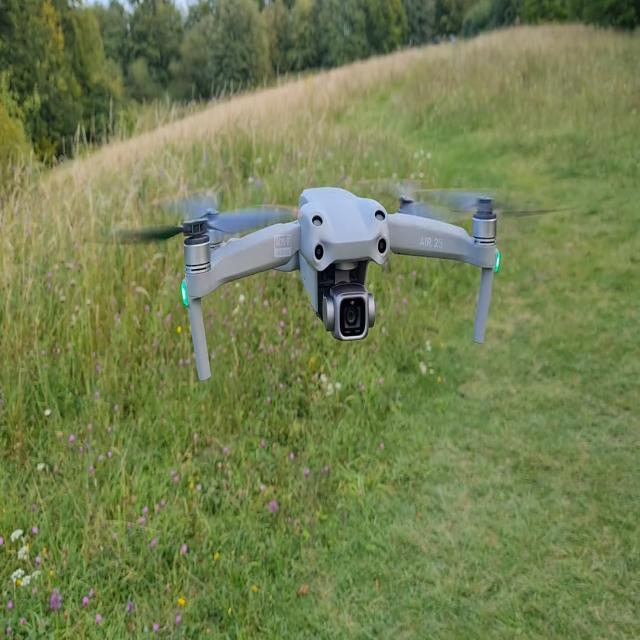drone: (82, 185, 574, 382)
